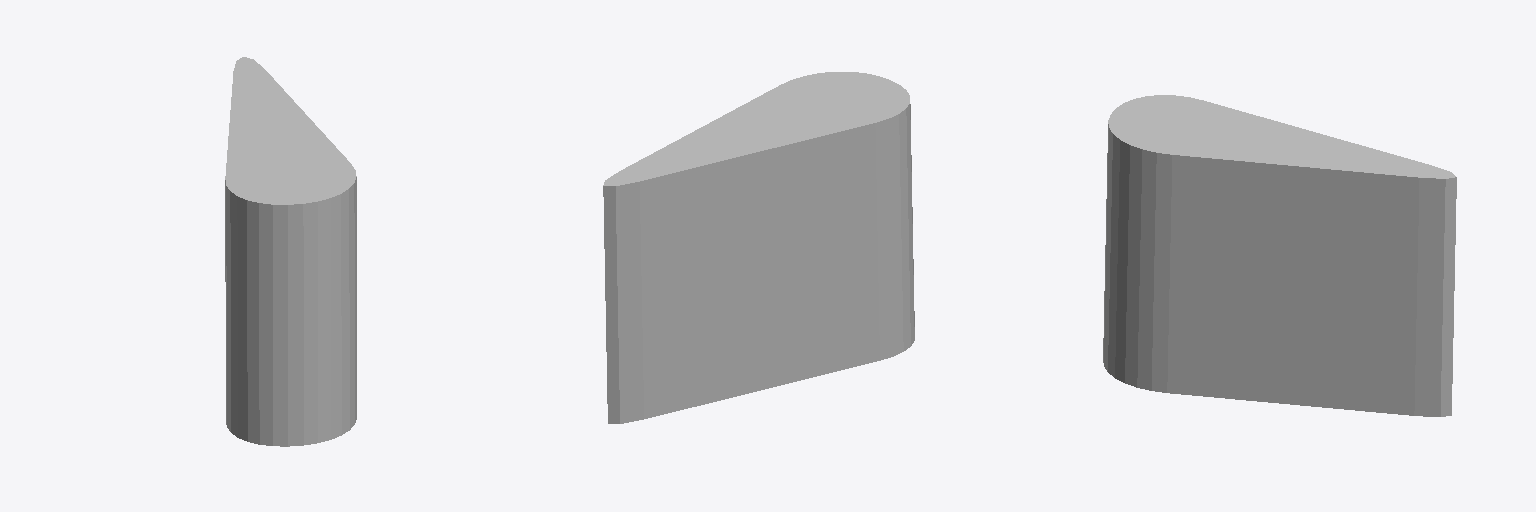
Rendered from leftflipper.obj.
3 renders of one model, left to right at view 1: azimuth 30°, elevation 25°; view 2: azimuth 150°, elevation 25°; view 3: azimuth 270°, elevation 25°, orthographic.
Bounding box in the file's own units: 0.693 × 1.01 × 1.32.